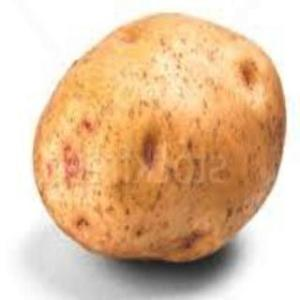potato: (34, 12, 286, 260)
